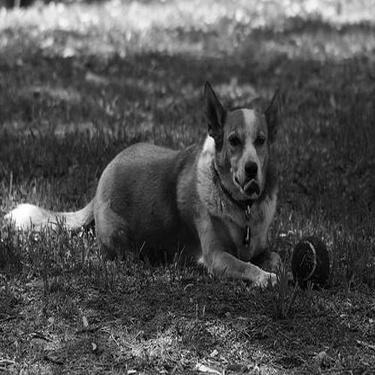dog: (1, 72, 289, 304)
